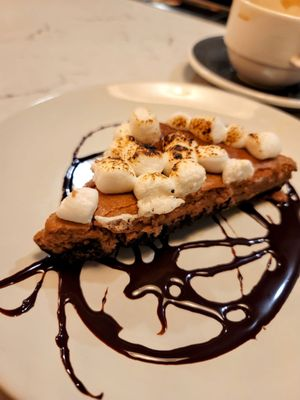sushi: (223, 0, 300, 90)
